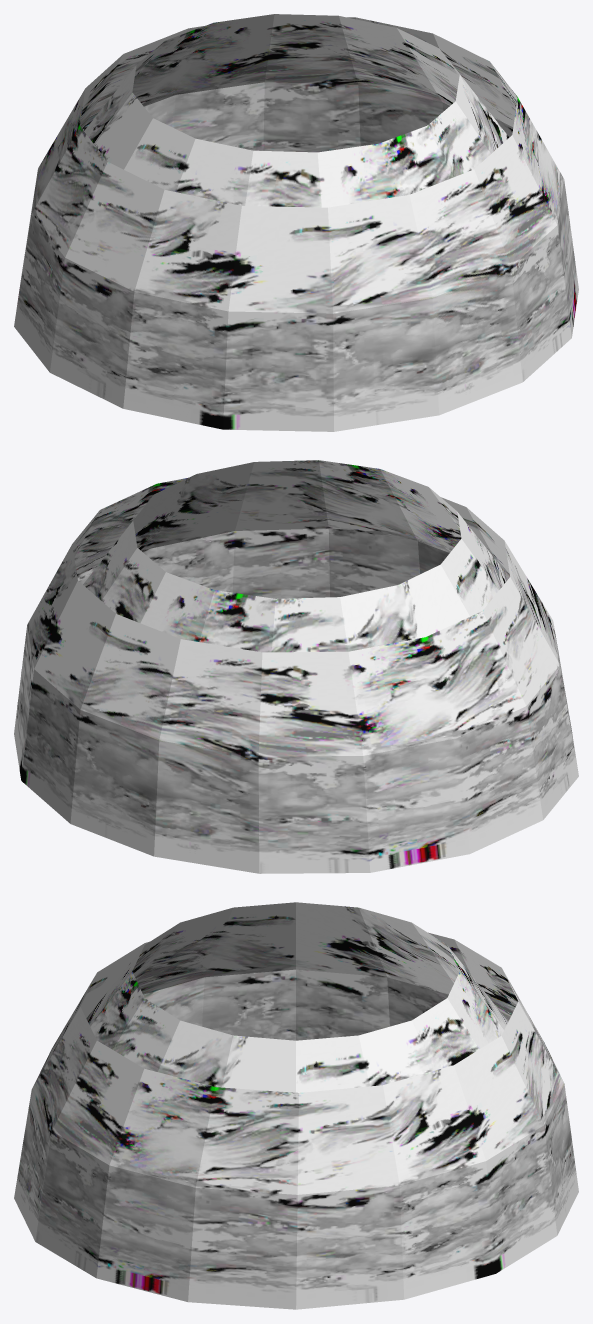
The model's file is EventSkyFX_S8_Halloween.fbx.
3 views of the same model, one above another, from view 1: azimuth 30°, elevation 25°; view 2: azimuth 150°, elevation 25°; view 3: azimuth 270°, elevation 25° (orthographic).
Visible parts, largest first — view 1: Clouds_Halloween; view 2: Clouds_Halloween; view 3: Clouds_Halloween.
Boxes of the visible parts, box(x1,y1,x2,y2) form: Clouds_Halloween: box(14, 14, 578, 431); Clouds_Halloween: box(14, 460, 578, 873); Clouds_Halloween: box(14, 902, 578, 1309).
Size of the model in its own units: 560 by 250 by 561.
